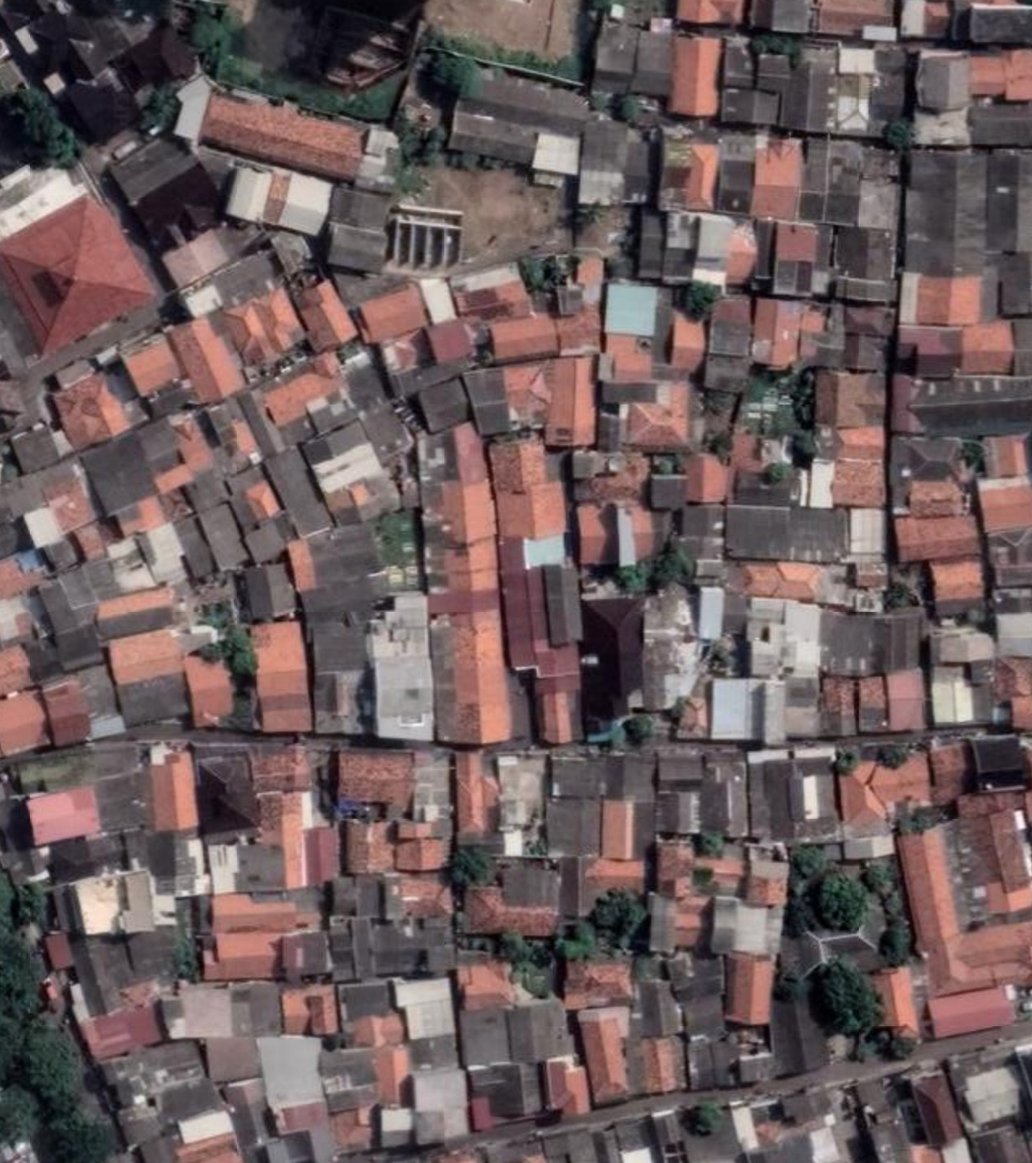building: (0, 140, 161, 359), (413, 421, 512, 746), (891, 787, 1032, 998), (228, 736, 351, 898), (572, 584, 709, 722), (445, 62, 597, 177), (196, 86, 370, 186), (103, 122, 231, 255), (900, 150, 1031, 275), (97, 1025, 224, 1150), (466, 551, 583, 680), (11, 740, 149, 845), (893, 825, 974, 998), (26, 552, 140, 667), (651, 828, 794, 914), (364, 591, 437, 744), (65, 924, 183, 1014), (795, 136, 902, 233), (0, 456, 103, 555), (47, 864, 177, 942), (102, 624, 198, 728), (210, 461, 302, 569), (485, 431, 570, 546), (847, 1065, 944, 1163), (222, 157, 336, 239), (9, 0, 105, 95), (326, 912, 456, 981), (156, 210, 263, 293), (171, 246, 283, 325), (215, 282, 310, 375), (164, 309, 251, 410), (103, 15, 199, 104), (305, 610, 373, 735), (56, 57, 147, 150), (745, 755, 838, 843), (895, 376, 1031, 436), (636, 207, 735, 288), (44, 367, 134, 456), (310, 444, 399, 534), (461, 358, 559, 439), (133, 406, 220, 496), (945, 1039, 1032, 1128), (565, 114, 642, 214), (282, 519, 383, 595), (76, 430, 162, 519), (249, 619, 313, 736), (462, 859, 559, 936), (259, 444, 335, 542), (721, 504, 847, 563), (742, 596, 827, 682), (103, 519, 192, 601), (749, 296, 843, 372), (597, 379, 692, 452), (589, 20, 676, 98), (294, 411, 379, 490), (575, 118, 651, 206), (193, 744, 262, 839), (731, 555, 855, 607), (321, 186, 392, 276), (573, 499, 665, 568), (287, 272, 361, 357), (256, 359, 342, 431), (195, 392, 267, 477), (574, 1005, 635, 1104), (449, 261, 534, 332), (763, 990, 832, 1077), (349, 280, 433, 351), (946, 920, 1032, 989), (103, 623, 191, 688), (387, 202, 464, 275), (699, 294, 755, 394), (778, 43, 839, 134), (886, 435, 960, 509), (923, 982, 1019, 1039), (77, 997, 162, 1061), (90, 583, 180, 643), (332, 747, 415, 812), (466, 1056, 544, 1124), (65, 659, 129, 741), (67, 0, 159, 57), (747, 134, 806, 222), (707, 677, 785, 743), (766, 221, 832, 299), (656, 133, 720, 213), (862, 749, 937, 817), (495, 753, 544, 857), (142, 827, 210, 901), (671, 505, 730, 590), (405, 1065, 470, 1142), (531, 644, 581, 744), (734, 1119, 846, 1163), (665, 33, 722, 119), (18, 782, 97, 844), (116, 330, 185, 400), (459, 362, 520, 441), (898, 272, 984, 328), (891, 509, 980, 563), (180, 648, 239, 729), (905, 1065, 963, 1147), (544, 356, 595, 447), (233, 558, 300, 627), (253, 1035, 319, 1105), (695, 752, 748, 839), (707, 896, 783, 956), (296, 572, 380, 626), (812, 369, 886, 430), (272, 1094, 337, 1163), (43, 829, 120, 887), (451, 750, 499, 843), (408, 374, 476, 438), (147, 750, 199, 833), (37, 675, 96, 748), (39, 462, 97, 536), (194, 501, 251, 575), (484, 310, 560, 365), (356, 399, 418, 466), (338, 981, 400, 1048), (509, 995, 570, 1063), (134, 520, 193, 590), (870, 965, 923, 1042), (817, 608, 877, 676), (560, 955, 634, 1010), (495, 855, 564, 913), (392, 975, 454, 1039), (809, 915, 883, 968), (968, 732, 1032, 793), (198, 929, 273, 980), (831, 767, 888, 834), (662, 948, 728, 1005), (223, 974, 280, 1040), (336, 340, 388, 412), (723, 953, 775, 1025), (540, 562, 584, 647), (260, 216, 319, 279), (317, 1048, 375, 1112), (895, 324, 962, 378), (159, 984, 225, 1038), (926, 555, 987, 613), (454, 1004, 512, 1065), (913, 50, 970, 112), (831, 225, 895, 280), (773, 925, 832, 984), (577, 452, 648, 501), (543, 797, 600, 858), (714, 132, 756, 214), (221, 1077, 270, 1147), (601, 279, 659, 338), (975, 476, 1032, 536), (541, 1051, 589, 1122), (679, 1103, 736, 1162), (926, 663, 978, 727), (249, 743, 314, 794), (380, 873, 452, 919), (597, 332, 657, 387), (410, 750, 454, 824), (307, 620, 367, 674), (662, 310, 711, 376), (926, 738, 975, 804), (968, 49, 1031, 100), (6, 422, 64, 477), (353, 123, 401, 189), (869, 45, 907, 128), (209, 891, 292, 929), (741, 845, 791, 908), (422, 315, 479, 370), (456, 957, 515, 1010), (176, 1114, 243, 1160), (279, 984, 337, 1037), (634, 1035, 686, 1094), (959, 4, 1032, 46), (171, 513, 216, 581), (0, 691, 46, 756), (959, 320, 1013, 375), (814, 0, 893, 37), (274, 928, 330, 980), (695, 587, 746, 644), (109, 493, 169, 541), (875, 611, 921, 673), (968, 102, 1031, 147), (772, 1083, 832, 1130), (928, 623, 995, 665), (376, 330, 432, 380), (634, 980, 682, 1037), (717, 85, 780, 128), (343, 821, 394, 874), (884, 668, 926, 732), (988, 530, 1031, 592), (723, 220, 762, 287), (733, 463, 795, 505), (911, 107, 971, 150), (964, 1122, 1028, 1162), (233, 842, 284, 892), (549, 753, 605, 798), (980, 432, 1032, 480), (686, 1037, 734, 1089), (832, 460, 885, 507), (605, 753, 653, 804), (206, 1028, 253, 1080), (683, 453, 730, 503), (679, 991, 726, 1041), (905, 477, 965, 516), (837, 330, 889, 375), (833, 73, 871, 134), (372, 1043, 410, 1104), (416, 271, 458, 326), (19, 635, 65, 685), (534, 1125, 594, 1163), (747, 0, 814, 33), (845, 507, 885, 562), (304, 825, 341, 884), (783, 678, 819, 738), (599, 800, 635, 860), (998, 253, 1031, 318), (328, 876, 380, 917), (820, 677, 856, 736), (861, 231, 901, 283), (898, 0, 951, 39), (853, 675, 888, 733), (329, 1108, 374, 1153), (408, 1032, 462, 1069), (656, 790, 700, 835), (556, 856, 587, 919), (393, 836, 448, 871), (584, 858, 644, 890), (656, 753, 704, 792), (611, 1116, 650, 1163), (646, 892, 676, 953), (0, 556, 43, 598), (674, 0, 745, 25), (520, 533, 567, 570), (835, 427, 885, 461), (842, 303, 892, 337), (840, 832, 895, 862), (40, 535, 81, 575), (0, 596, 33, 644), (995, 612, 1031, 656), (0, 644, 31, 694), (734, 1048, 777, 1084), (613, 504, 637, 568), (754, 52, 792, 92), (996, 656, 1031, 699), (721, 41, 753, 87), (377, 1104, 409, 1147), (648, 473, 686, 509), (728, 427, 762, 467), (39, 929, 71, 970), (836, 45, 877, 76), (309, 347, 347, 380), (1011, 317, 1031, 376), (653, 1107, 682, 1146), (849, 561, 887, 590), (898, 0, 926, 36), (993, 587, 1031, 613), (800, 775, 820, 820), (468, 1097, 495, 1130), (964, 659, 995, 686), (851, 589, 882, 613), (305, 494, 323, 513), (501, 538, 517, 559), (318, 509, 330, 526)
tree: (795, 948, 887, 1048), (578, 880, 652, 957), (200, 614, 274, 686), (392, 122, 449, 200), (437, 834, 504, 899), (414, 43, 480, 106), (181, 11, 243, 76), (808, 870, 872, 932), (852, 850, 911, 913), (639, 540, 699, 599), (132, 81, 186, 144), (496, 935, 550, 997), (777, 838, 833, 892), (671, 271, 725, 326), (545, 919, 597, 968), (57, 1120, 117, 1162), (773, 893, 821, 943), (868, 1023, 919, 1070), (606, 557, 650, 602), (877, 115, 919, 157), (169, 931, 201, 984), (518, 256, 558, 297), (882, 572, 921, 612), (877, 919, 910, 966), (784, 428, 818, 467), (574, 199, 614, 232), (607, 92, 647, 124), (685, 1103, 722, 1137), (847, 1031, 881, 1067), (622, 713, 656, 747), (835, 749, 859, 775), (698, 834, 724, 857)
